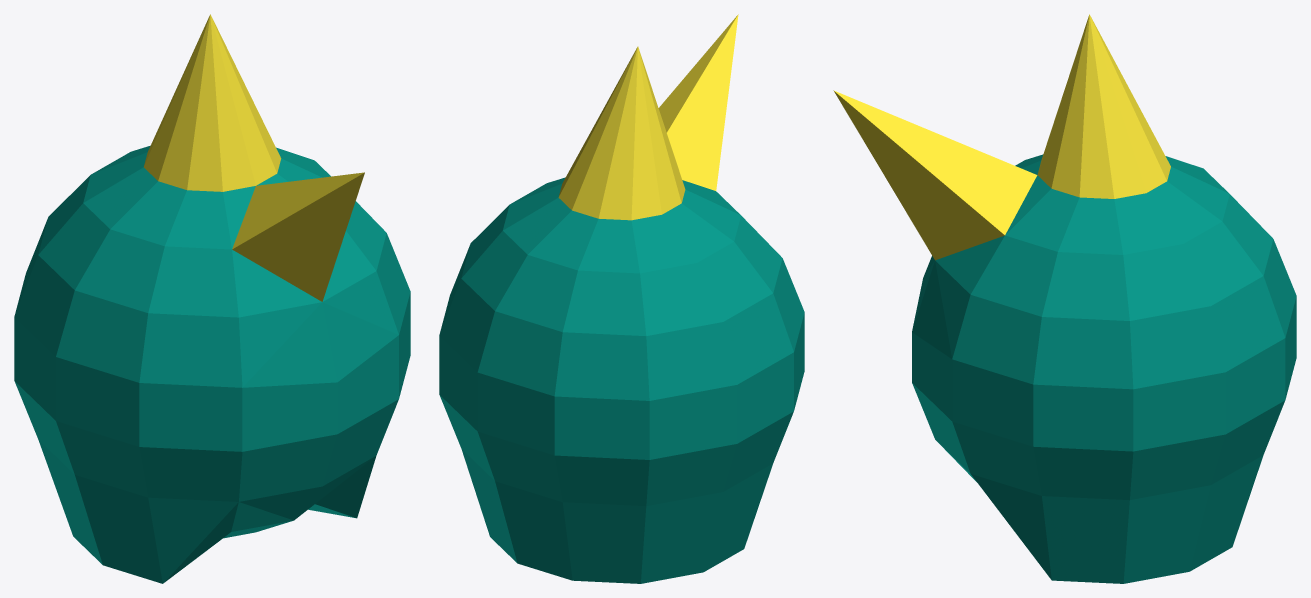
The model's file is n5_n5_group1405966020_lev5.001.glb.
3 renders of one model, left to right at view 1: azimuth 30°, elevation 25°; view 2: azimuth 150°, elevation 25°; view 3: azimuth 270°, elevation 25°, orthographic. The views are drawn at different scales.
Visible parts, largest first — view 1: n5_n5_group1405966020_lev5.001; view 2: n5_n5_group1405966020_lev5.001; view 3: n5_n5_group1405966020_lev5.001.
Boxes of the visible parts, box(x1,y1,x2,y2) form: n5_n5_group1405966020_lev5.001: box(14, 14, 410, 583); n5_n5_group1405966020_lev5.001: box(439, 14, 804, 583); n5_n5_group1405966020_lev5.001: box(833, 14, 1296, 583).
Bounding box in the file's own units: 4.15 × 6.02 × 4.99.
